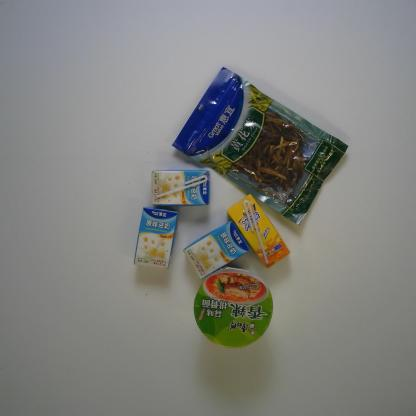Dried Food: (171, 66, 350, 226)
Drink: (226, 193, 290, 269)
Instant Noodles: (193, 266, 273, 348)
Milk: (183, 220, 249, 280), (132, 206, 178, 270), (150, 169, 212, 206)
